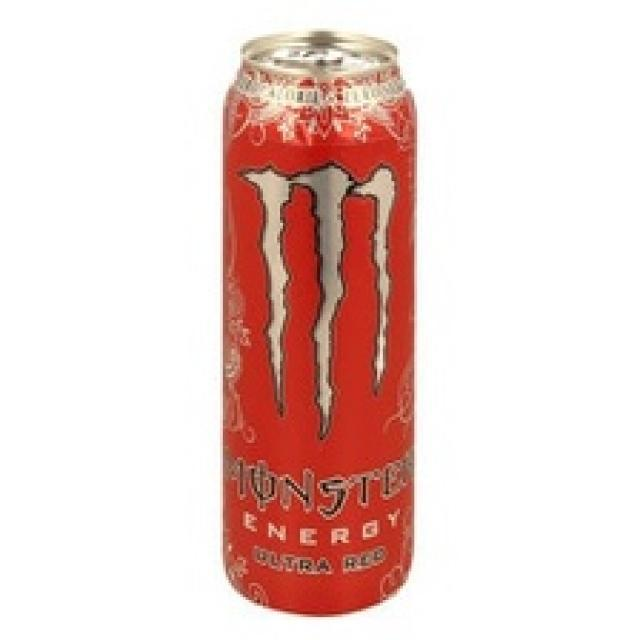recyclable: (223, 29, 418, 614)
